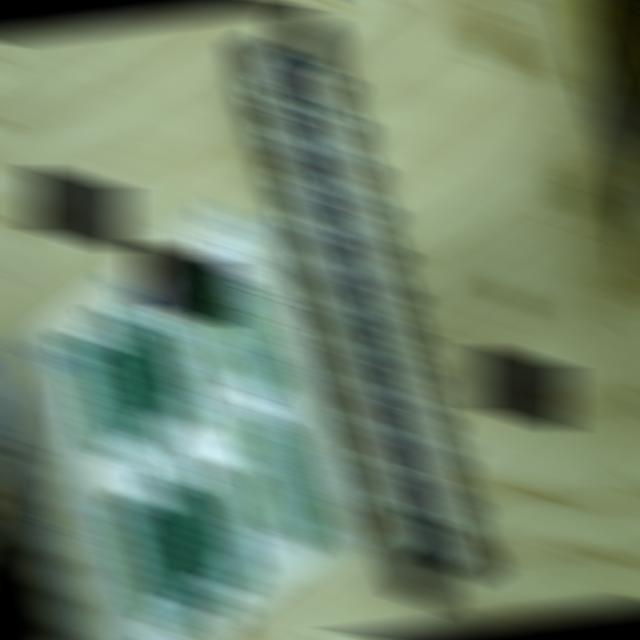Flathead_Block: (229, 5, 499, 612)
Terminal_1: (196, 266, 275, 395), (240, 417, 317, 545)
Terminal_2: (91, 320, 166, 442), (110, 509, 184, 632), (123, 299, 198, 420), (143, 488, 217, 610), (176, 466, 249, 588)
